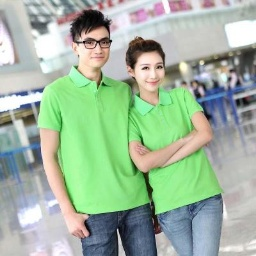face: (70, 9, 111, 70), (125, 35, 166, 94)
